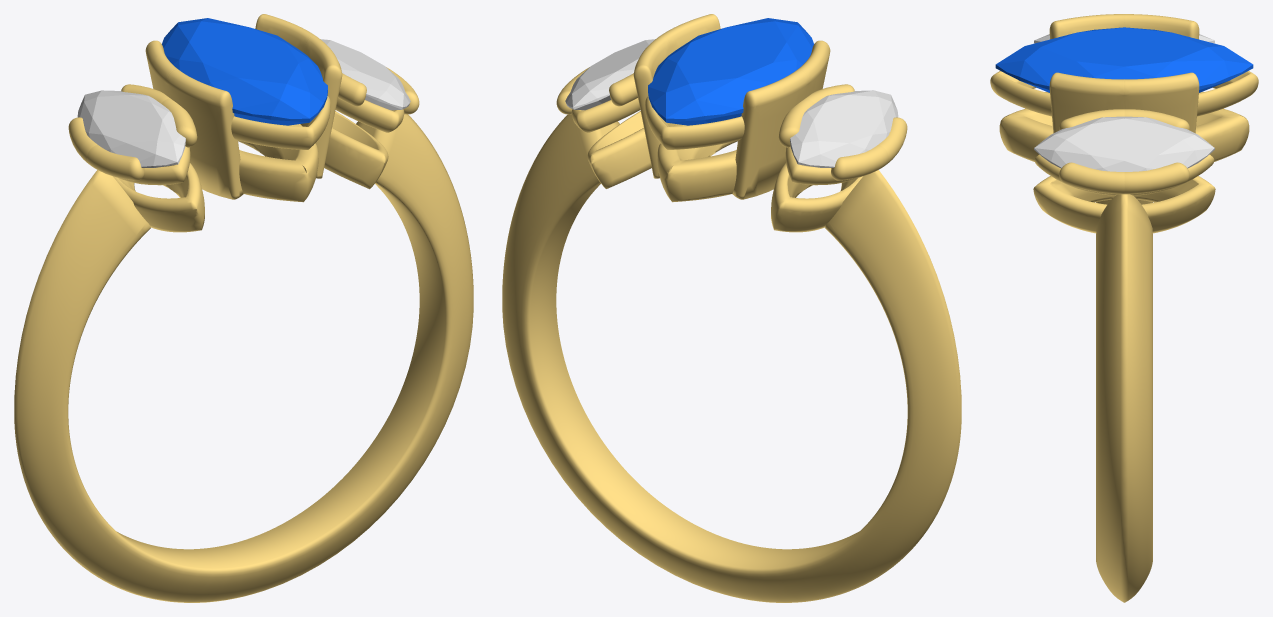
Rendered from bluesapphire-marquise-yellowgold-halfmoonbezel-knifeedge-3stone.glb.
The picture shows the model from 3 angles, left to right: view 1: azimuth 30°, elevation 25°; view 2: azimuth 150°, elevation 25°; view 3: azimuth 270°, elevation 25°; orthographic projection. The views are drawn at different scales.
Visible parts, largest first — view 1: metal.003, stone.002, side.004, side.005; view 2: metal.003, stone.002, side.004, side.005; view 3: metal.003, stone.002, side.005.
Part boxes in pixels (box(x1,y1,x2,y2)): metal.003: box(14, 14, 473, 602); stone.002: box(162, 18, 327, 125); side.004: box(77, 90, 185, 167); side.005: box(320, 39, 410, 110); metal.003: box(502, 14, 961, 602); stone.002: box(648, 18, 813, 125); side.004: box(790, 90, 898, 167); side.005: box(565, 39, 655, 110); metal.003: box(990, 14, 1258, 602); stone.002: box(995, 27, 1253, 92); side.005: box(1034, 116, 1214, 171).
Bounding box in the file's own units: 20.1 × 22.73 × 10.4.
